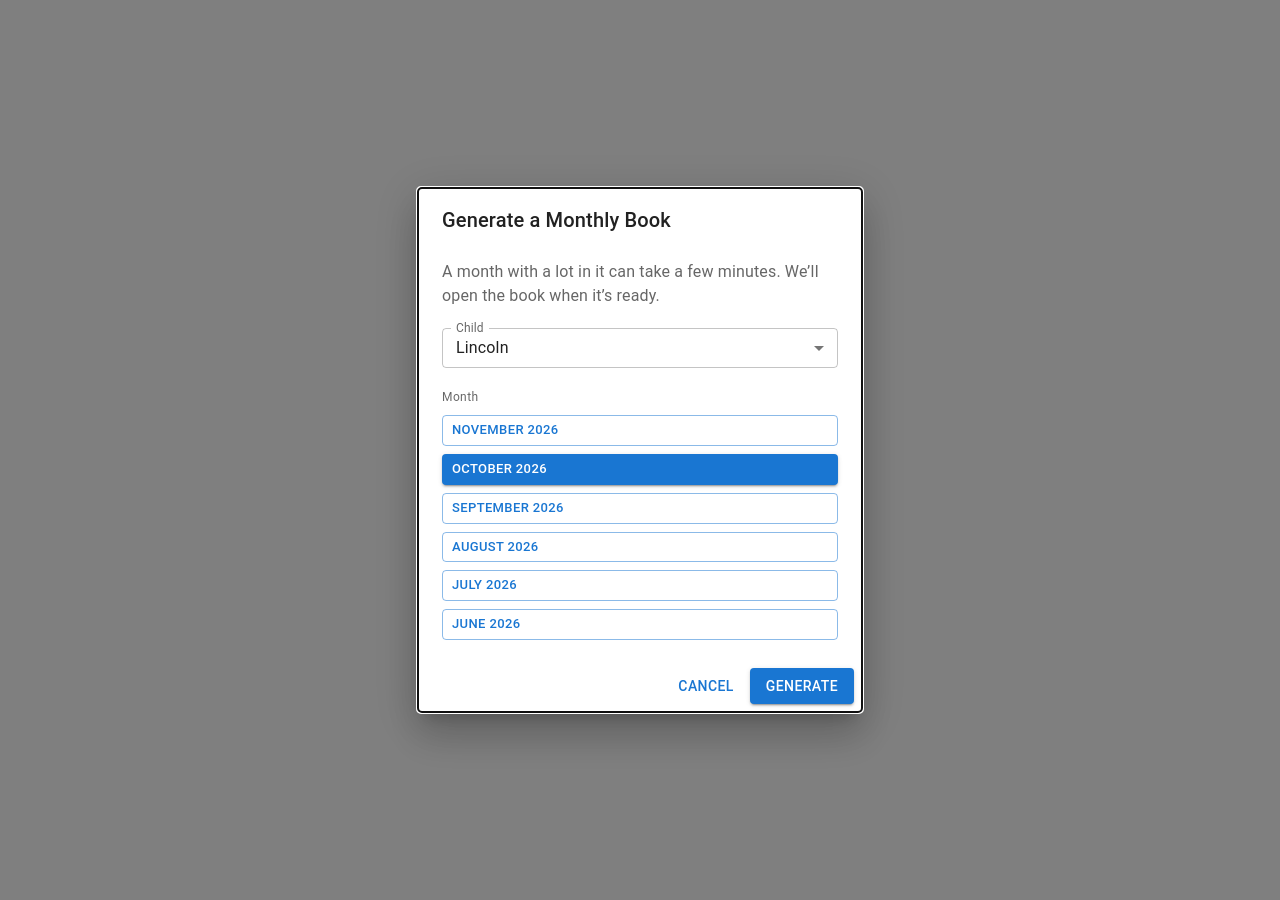
GenerateNowDialog — the client waits as long as the server does › still renders a genuine function error in red
Click the button "Generate": coordinates (802, 686) 750,668 -> 854,704
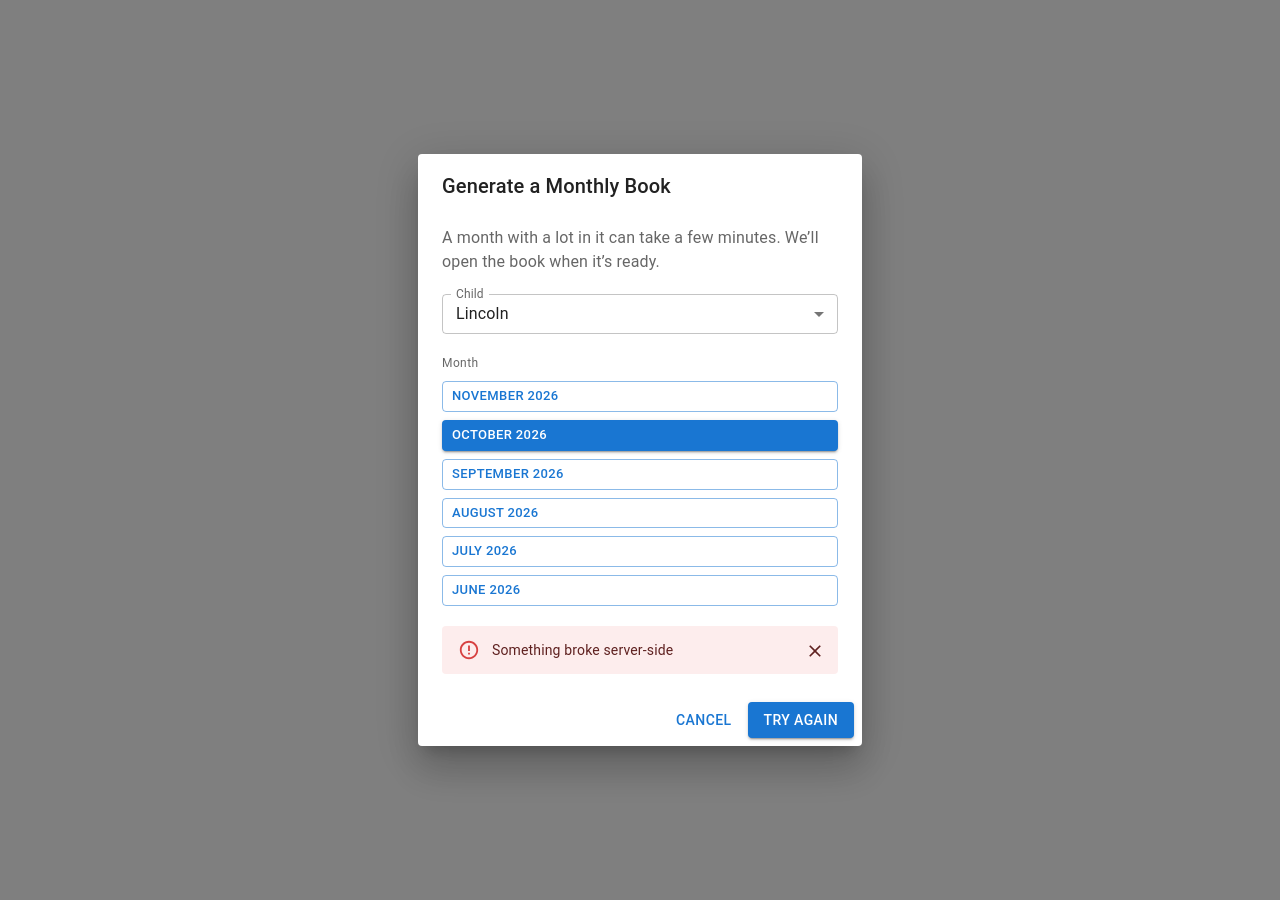
expect the message reads "Something broke server-side": met, box 492,642 -> 673,658
